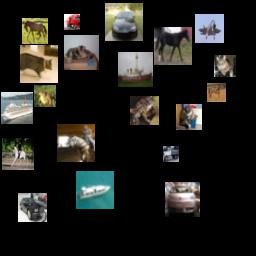airplane: (195, 14, 224, 43)
automobile: (105, 3, 143, 41), (165, 182, 200, 217), (18, 193, 47, 222)
cat: (20, 45, 58, 83), (64, 35, 99, 70), (176, 104, 202, 130), (214, 55, 236, 77)
frog: (130, 96, 159, 125), (34, 85, 56, 107)
ship: (76, 171, 114, 209), (118, 52, 153, 87), (1, 92, 33, 124)
truck: (163, 146, 179, 162), (64, 14, 80, 30)
